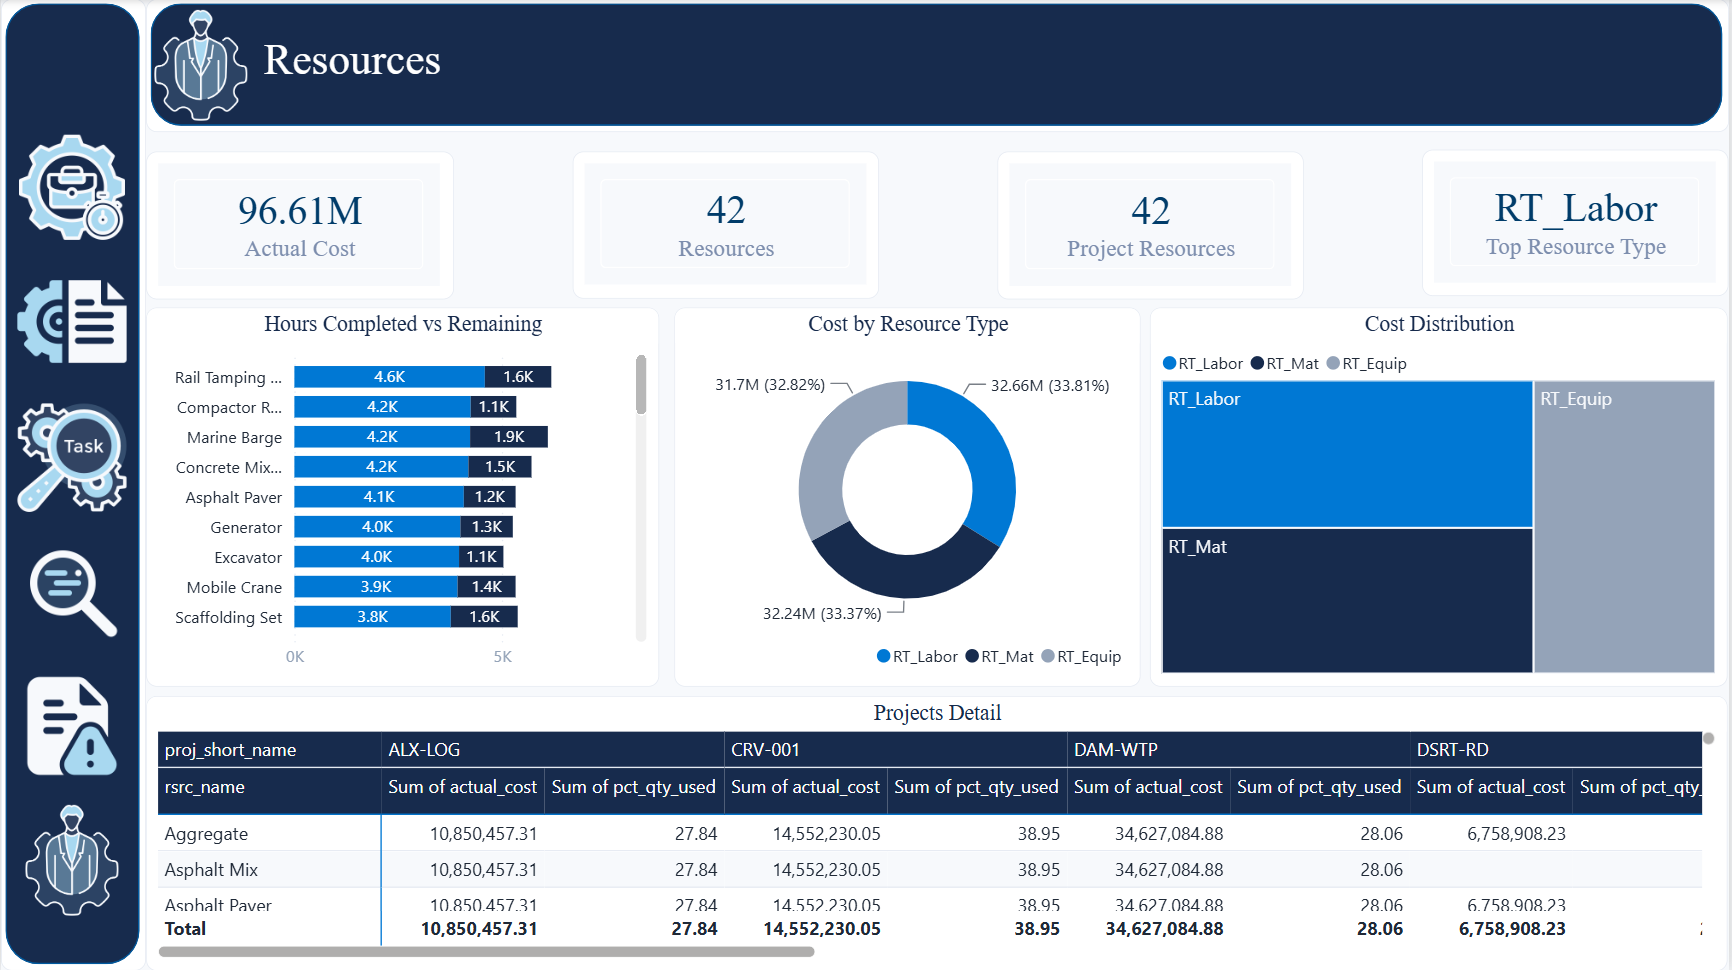

What the dashboard file says about the page in this screenshot:
{"tool":"powerbi","page":{"name":"Resources","canvas":[1280,720],"ordinal":5},"visuals":[{"type":"shape","box":[107.2,0,1172.8,98.6],"z":0},{"type":"shape","box":[0,0,107.3,720],"z":1000},{"type":"textbox","box":[189.1,20.9,696.4,55.5],"z":2000},{"type":"barChart","title":"Hours Completed vs Remaining","fields":{"Category":["Dim_Resource.rsrc_name"],"Y":["Sum(Fact_Resource_Allocation.actual_qty)","Sum(Fact_Resource_Allocation.remaining_qty)"]},"box":[107.5,229,380,280.8],"z":3000},{"type":"cardVisual","fields":{"Data":["Sum(Fact_Resource_Allocation.actual_cost)"]},"box":[107.1,112.6,228,109.9],"z":4000},{"type":"cardVisual","fields":{"Data":["Measurees.Top_Resource_Type"]},"box":[1052.9,112.2,227.1,108.4],"z":5000},{"type":"cardVisual","fields":{"Data":["Measurees.Multi_Project_Resources"]},"box":[738,112.5,227,109.9],"z":6000},{"type":"cardVisual","fields":{"Data":["Measurees.Total_Resources_Count"]},"box":[423,113,227,109],"z":7000},{"type":"donutChart","title":"\tCost by Resource Type","fields":{"Category":["Dim_Resource.rsrc_type"],"Y":["Sum(Fact_Resource_Allocation.actual_cost)"]},"box":[498.7,229,345.7,280.8],"z":8000},{"type":"treemap","title":"\tCost Distribution","fields":{"Group":["Dim_Resource.rsrc_type"],"Values":["Sum(Fact_Resource_Allocation.actual_cost)"]},"box":[851.8,229,428.2,280.8],"z":9000},{"type":"pivotTable","title":"Projects Detail","fields":{"Columns":["Dim_Project.proj_short_name"],"Rows":["vw_Resource_Utilization.rsrc_name"],"Values":["Sum(Fact_Resource_Allocation.actual_cost)","Sum(Fact_Resource_Allocation.pct_qty_used)"]},"box":[108.2,516.4,1171.8,203.6],"z":10000},{"type":"image","box":[12.7,98.2,80.9,82.7],"z":11000},{"type":"image","box":[12.7,198.2,80.9,82.7],"z":12000},{"type":"image","box":[12.7,298.2,80.9,82.7],"z":13000},{"type":"image","box":[12.7,398.2,80.9,82.7],"z":14000},{"type":"image","box":[12.7,597.3,80.9,81.8],"z":15000},{"type":"image","box":[108.2,8.2,80.9,81.8],"z":16000},{"type":"image","box":[12.7,498.2,80.9,81.8],"z":17000}]}

Visuals, with their boxes on the page's 1280x720 design canvas (x1, y1, x2, y2). These are canvas units, not pixel positions in the 1732x970 screenshot, which may show the page scaled, cropped or inside an application window:
shape: box(107, 0, 1280, 99)
shape: box(0, 0, 107, 720)
textbox: box(189, 21, 886, 76)
"Hours Completed vs Remaining" barChart: box(108, 229, 488, 510)
cardVisual - Sum(Fact_Resource_Allocation.actual_cost): box(107, 113, 335, 222)
cardVisual - Measurees.Top_Resource_Type: box(1053, 112, 1280, 221)
cardVisual - Measurees.Multi_Project_Resources: box(738, 112, 965, 222)
cardVisual - Measurees.Total_Resources_Count: box(423, 113, 650, 222)
"	Cost by Resource Type" donutChart: box(499, 229, 844, 510)
"	Cost Distribution" treemap: box(852, 229, 1280, 510)
"Projects Detail" pivotTable: box(108, 516, 1280, 720)
image: box(13, 98, 94, 181)
image: box(13, 198, 94, 281)
image: box(13, 298, 94, 381)
image: box(13, 398, 94, 481)
image: box(13, 597, 94, 679)
image: box(108, 8, 189, 90)
image: box(13, 498, 94, 580)
